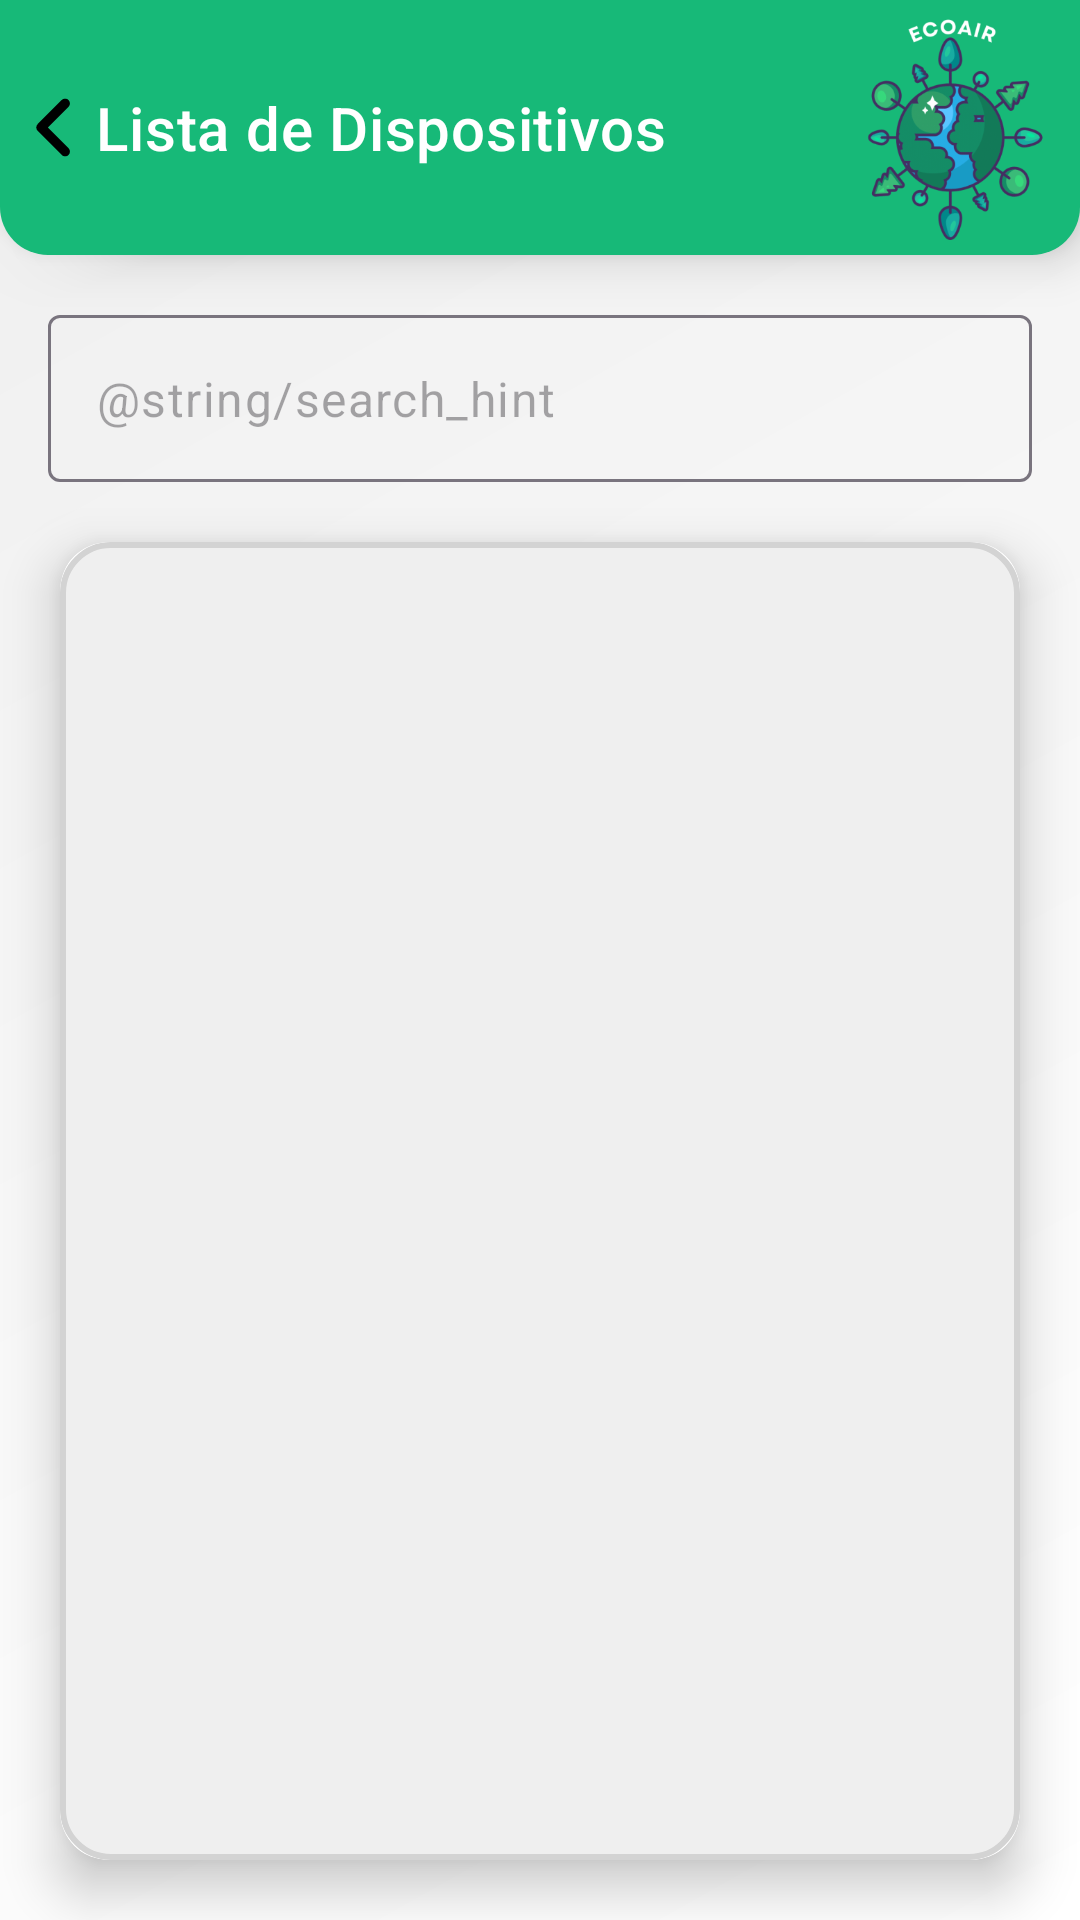

Locate icon controls on the screen. Image size 1080x1920, boxes as (x1, y1, x2, y2).
back: (36, 98, 70, 157)
